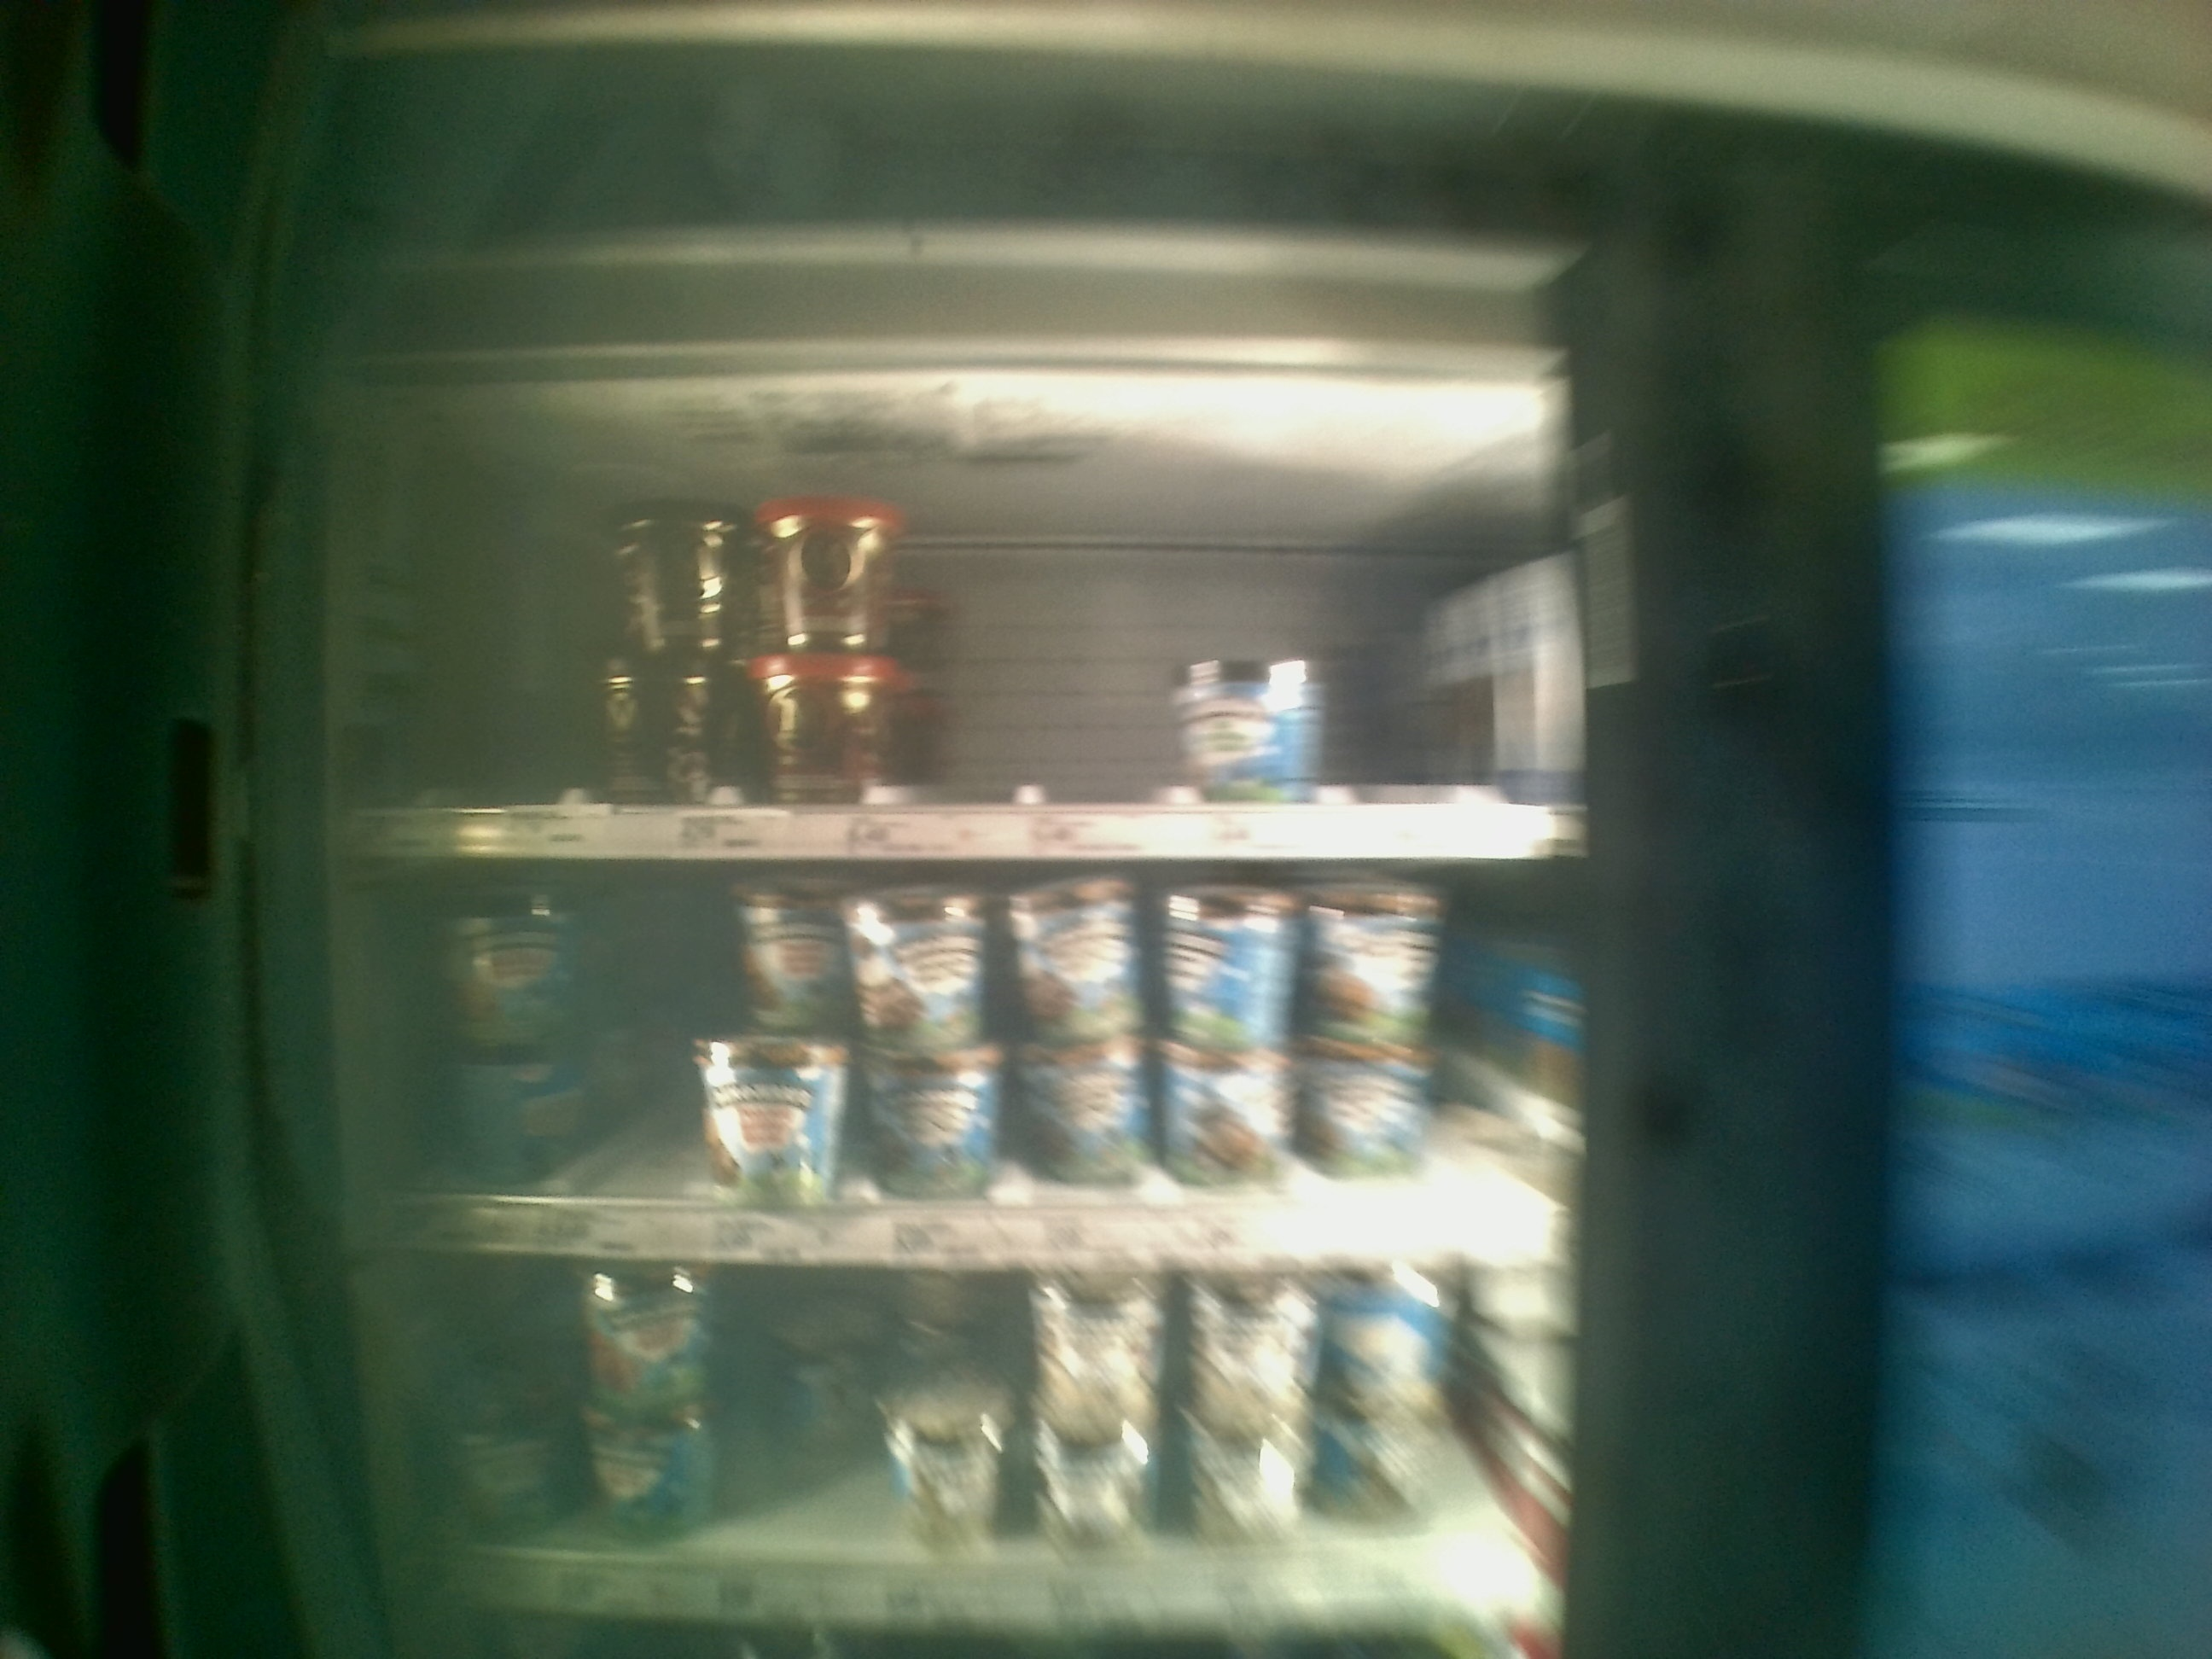shelf: (343, 362, 1581, 863), (341, 863, 1587, 1263), (334, 1265, 1569, 1642)
